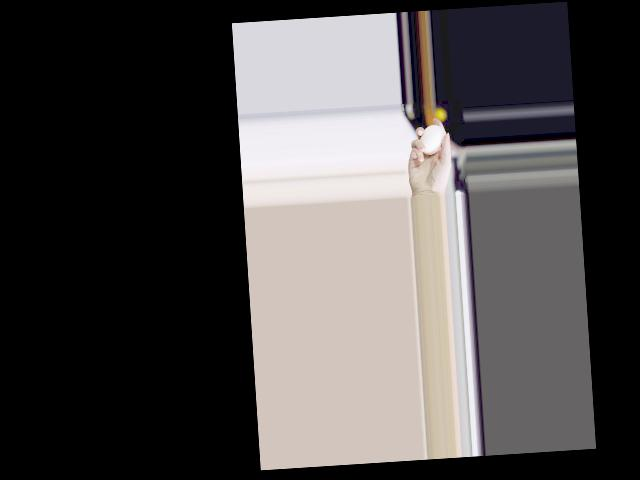egg: (419, 123, 445, 154)
